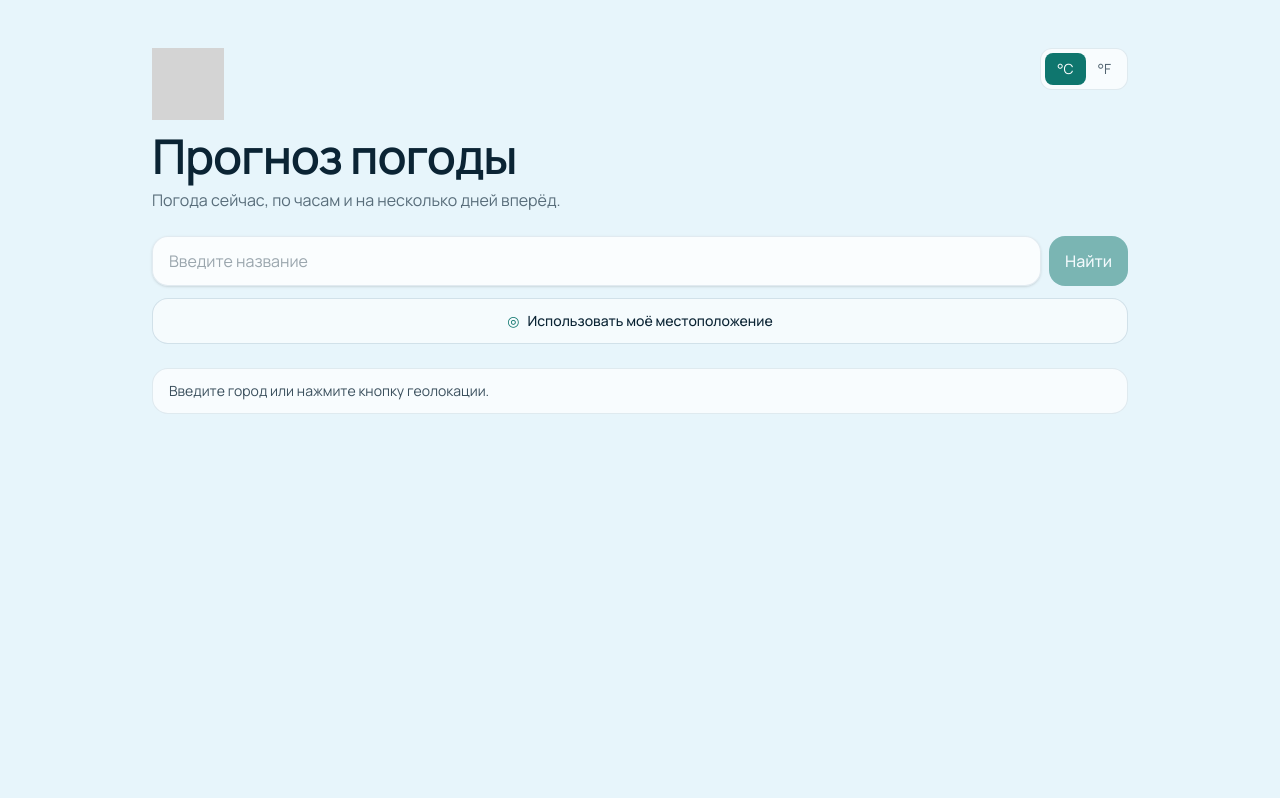
Test: WeatherApp scenarios › toggles units from C to F
This screenshot has width=1280, height=798.
Type "Moscow" into the search field named "Поиск города" at (596, 261), box [152,236,1041,286]
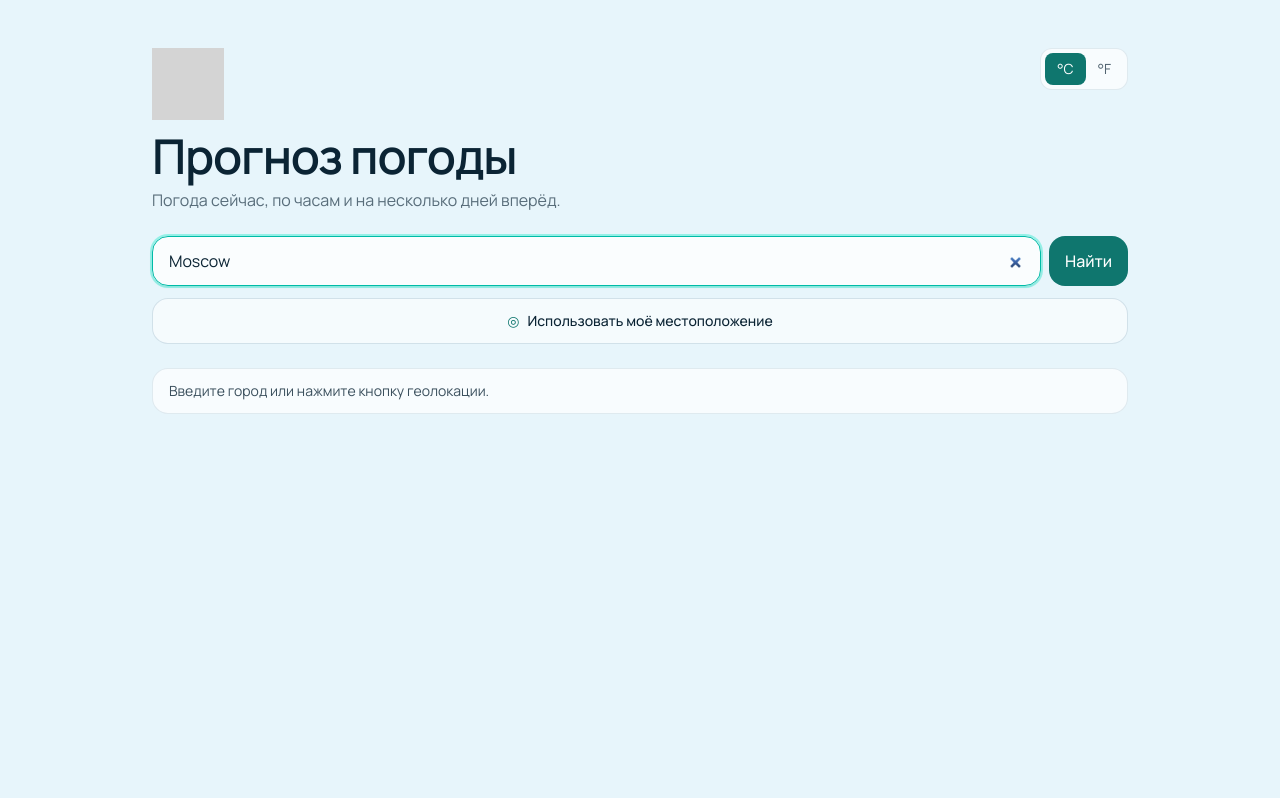
Click the button "Найти" at (1088, 261), box [1049,236,1128,286]
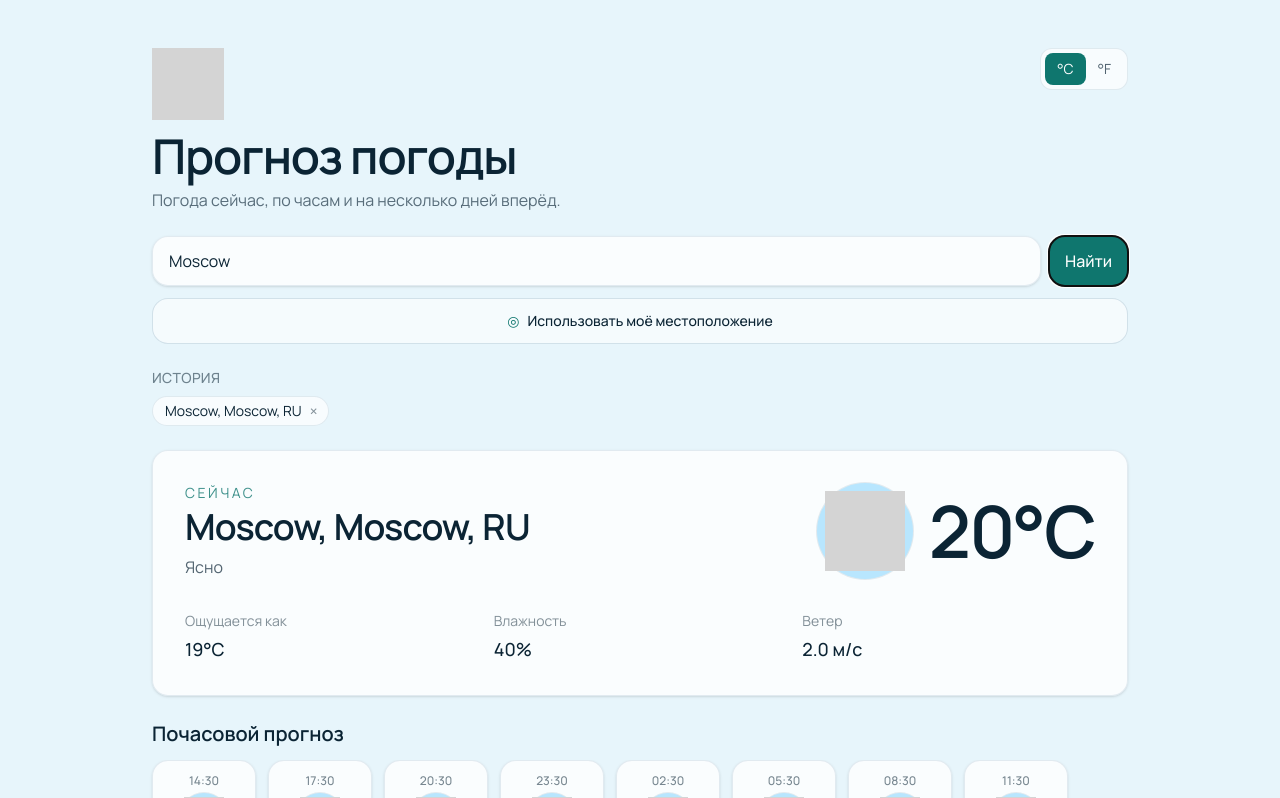
expect the heading "Moscow, Moscow, RU" is shown: met, box [185,507,530,547]
expect the text "20°C" is shown: met, box [929,495,1095,567]
Click the button "°F" at (1104, 69), box [1086,53,1123,85]
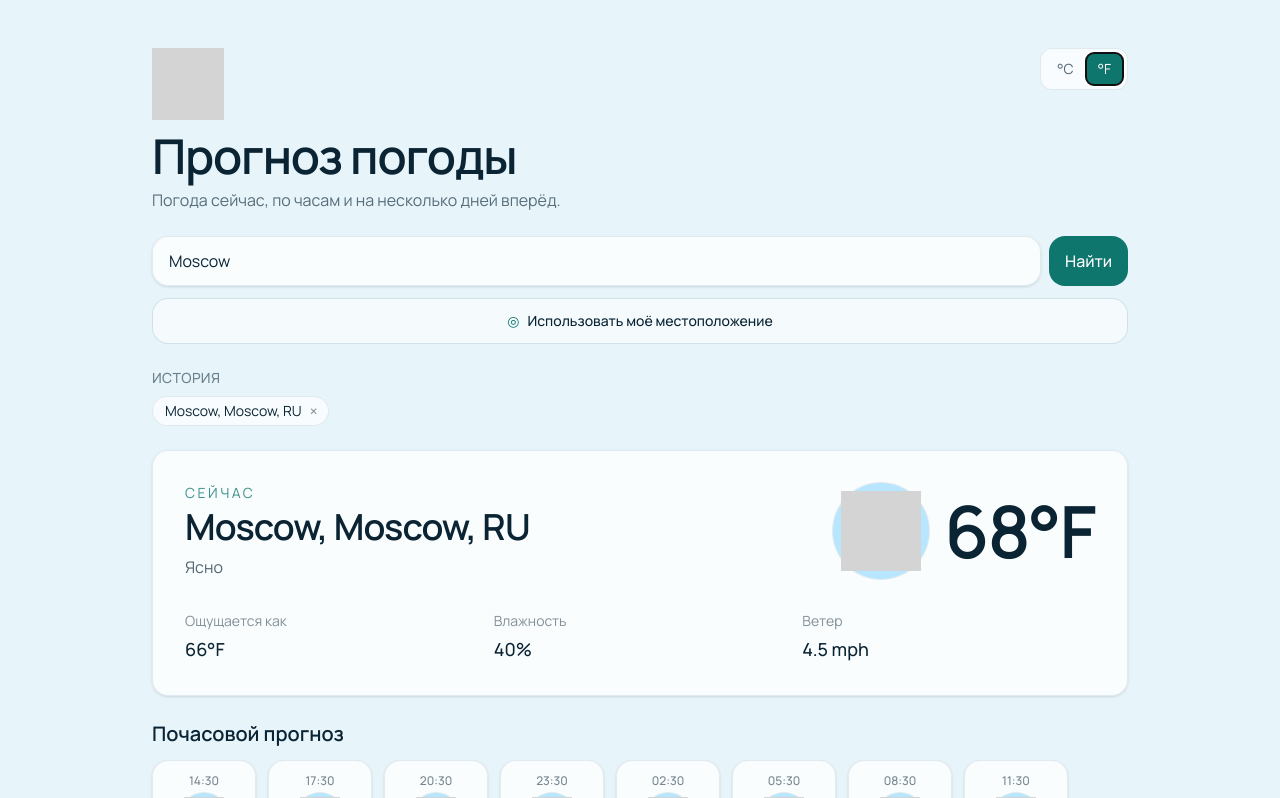
expect the text "68°F" is shown: met, box [944,495,1095,567]
